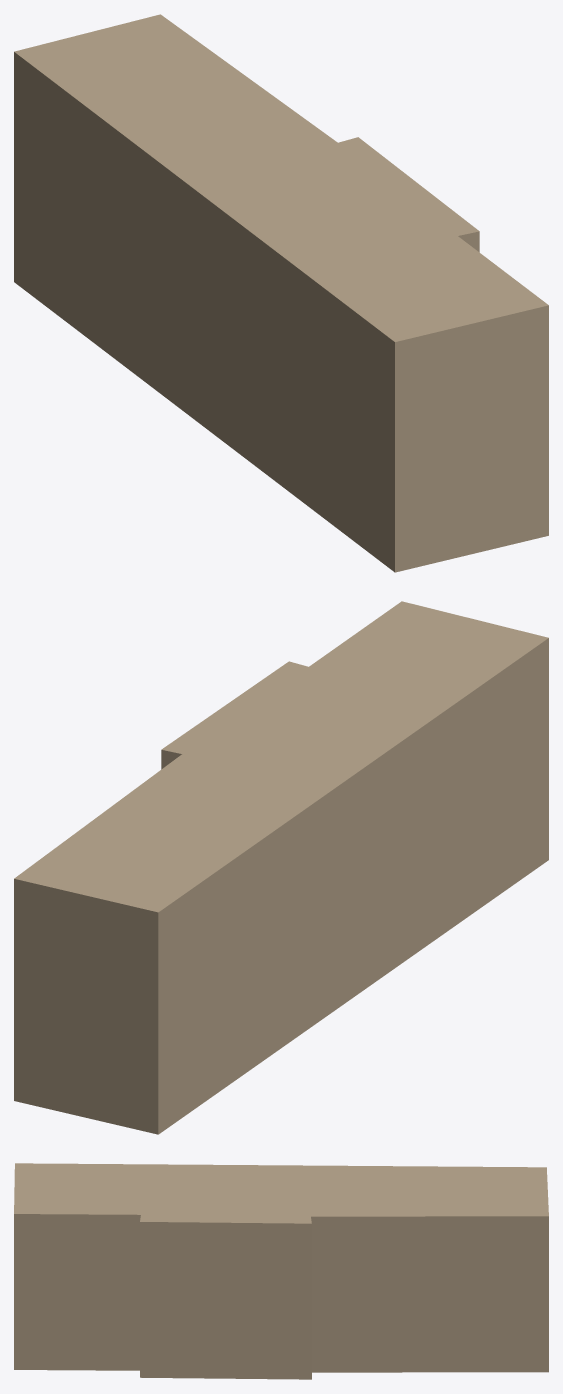
File: bld_98768151.dae
3 views of the same model, one above another, from view 1: azimuth 30°, elevation 25°; view 2: azimuth 150°, elevation 25°; view 3: azimuth 270°, elevation 25° (orthographic). The views are drawn at different scales.
Parts seen in each view (by area): view 1: Phonebox; view 2: Phonebox; view 3: Phonebox.
Boxes of the visible parts, bbox=[...] form: Phonebox: bbox=[14, 14, 548, 572]; Phonebox: bbox=[14, 601, 548, 1134]; Phonebox: bbox=[14, 1163, 548, 1379].
Bounding box in the file's own units: 6.64 × 24.87 × 8.
